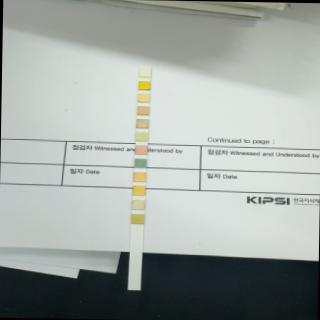mark: (131, 214, 143, 224), (132, 200, 144, 210), (132, 185, 144, 195), (134, 158, 146, 168), (133, 172, 145, 181), (136, 119, 148, 128), (137, 93, 149, 102), (134, 146, 146, 154), (136, 132, 148, 140), (137, 106, 149, 114), (138, 81, 150, 89), (139, 68, 150, 76)
